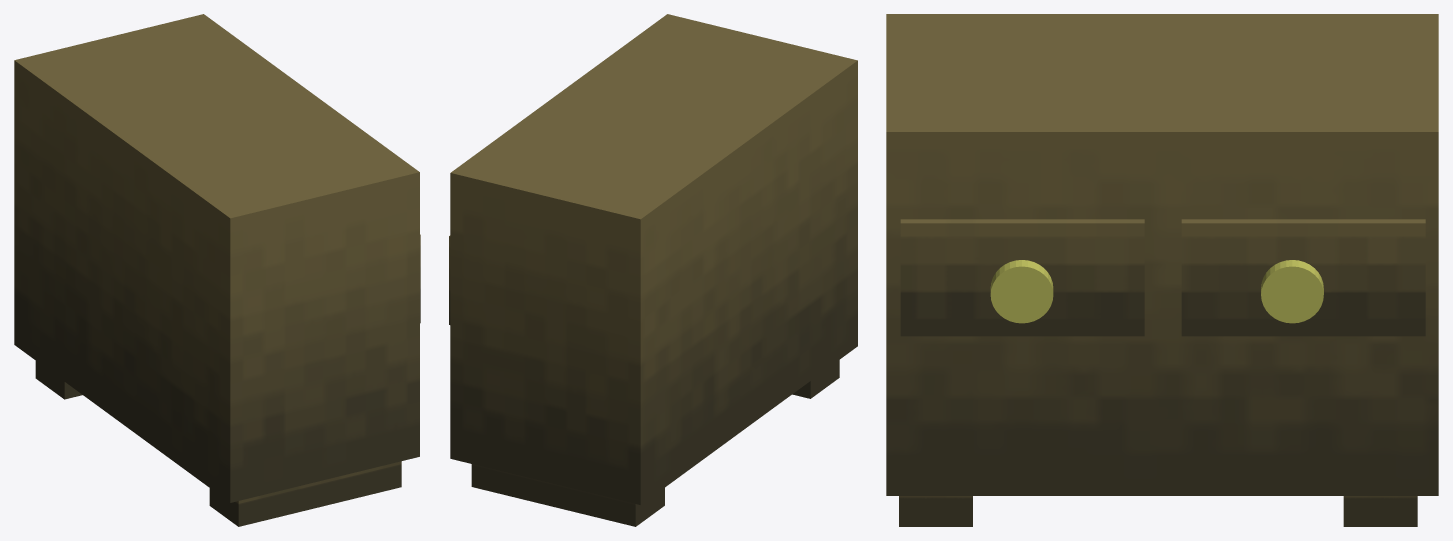
The model's file is BedroomDrawer.glb.
3 views of the same model, side by side, from view 1: azimuth 30°, elevation 25°; view 2: azimuth 150°, elevation 25°; view 3: azimuth 270°, elevation 25° (orthographic). The views are drawn at different scales.
Visible parts, largest first — view 1: BedroomDrawer_Baked, LeftFoot_Baked, RightFoot_Baked; view 2: BedroomDrawer_Baked, RightFoot_Baked, LeftFoot_Baked; view 3: BedroomDrawer_Baked, LeftDrawer_Baked, RightDrawer_Baked, nobledft_Baked, nobright_Baked, RightFoot_Baked, LeftFoot_Baked.
Part boxes in pixels (x1,y1,x2,y2): BedroomDrawer_Baked: (14,14,419,502); LeftFoot_Baked: (209,461,401,526); RightFoot_Baked: (35,361,82,399); BedroomDrawer_Baked: (450,14,857,505); RightFoot_Baked: (471,464,664,526); LeftFoot_Baked: (792,360,839,398); BedroomDrawer_Baked: (886,14,1438,495); LeftDrawer_Baked: (900,219,1144,336); RightDrawer_Baked: (1181,219,1425,336); nobledft_Baked: (990,260,1053,323); nobright_Baked: (1261,260,1323,323); RightFoot_Baked: (1343,496,1417,526); LeftFoot_Baked: (899,496,972,526).
Bounding box in the file's own units: 2.66 × 3.69 × 4.59.
7 materials, 7 textured.
